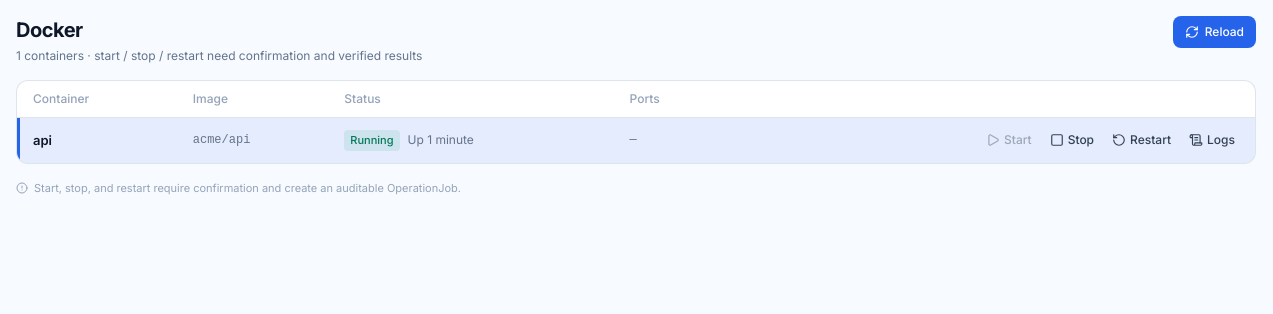
it: DockerOpsPanel › journals read-only logs and addresses the selected immutable container id
Click the button "Logs" at (1212, 140), box [1181,126,1243,154]
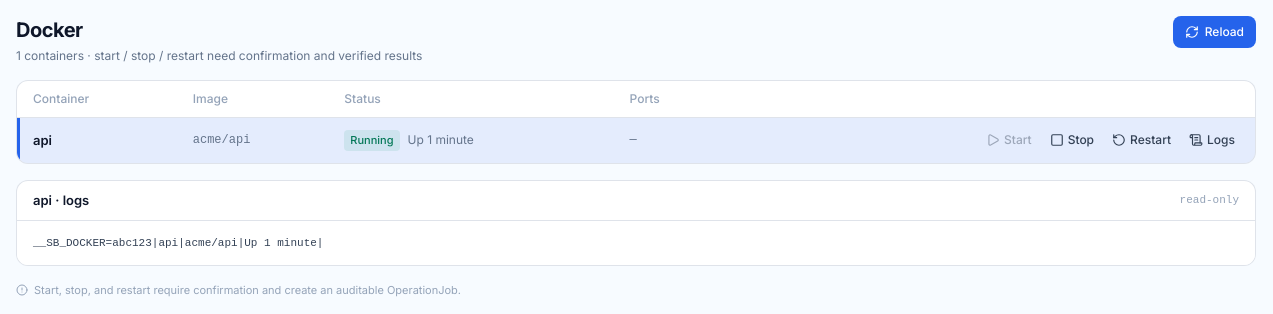
Expected: the element with test id "docker-ops-output" is shown, [17,221,1255,265]
